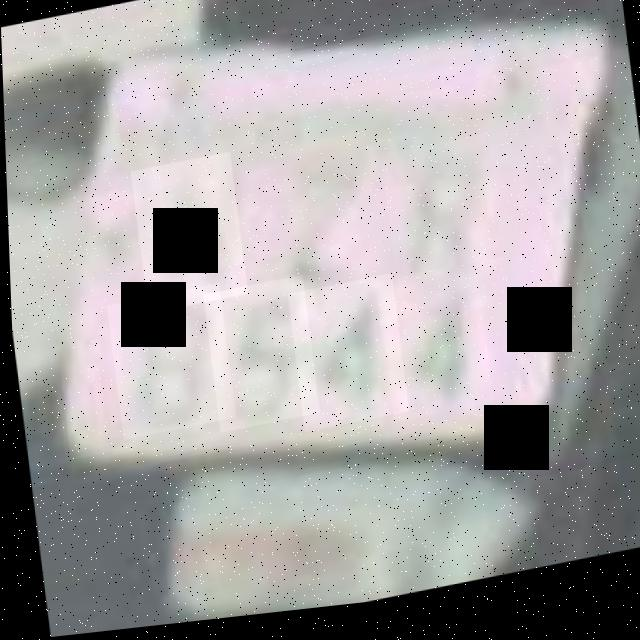4: (284, 280, 405, 439), (374, 278, 489, 432)
5: (200, 280, 317, 438)
8: (104, 287, 232, 443)
B: (379, 143, 498, 294)
N: (129, 155, 245, 317)
Z: (273, 145, 373, 288)
